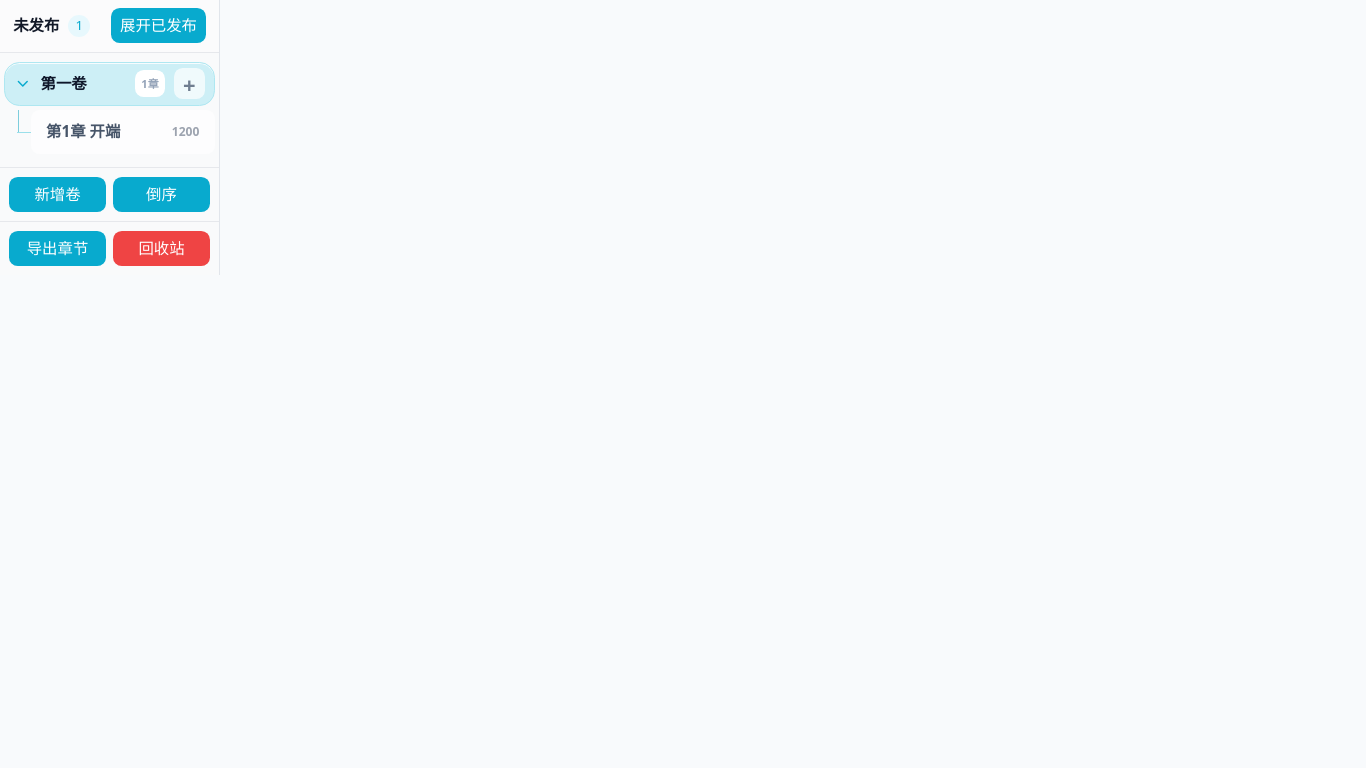
Test case: ChapterSidebar › shows an in-app prompt instead of a native alert when deleting a non-empty volume
Right-click the text "第一卷" at (64, 83), box left=41, top=73, right=87, bottom=94
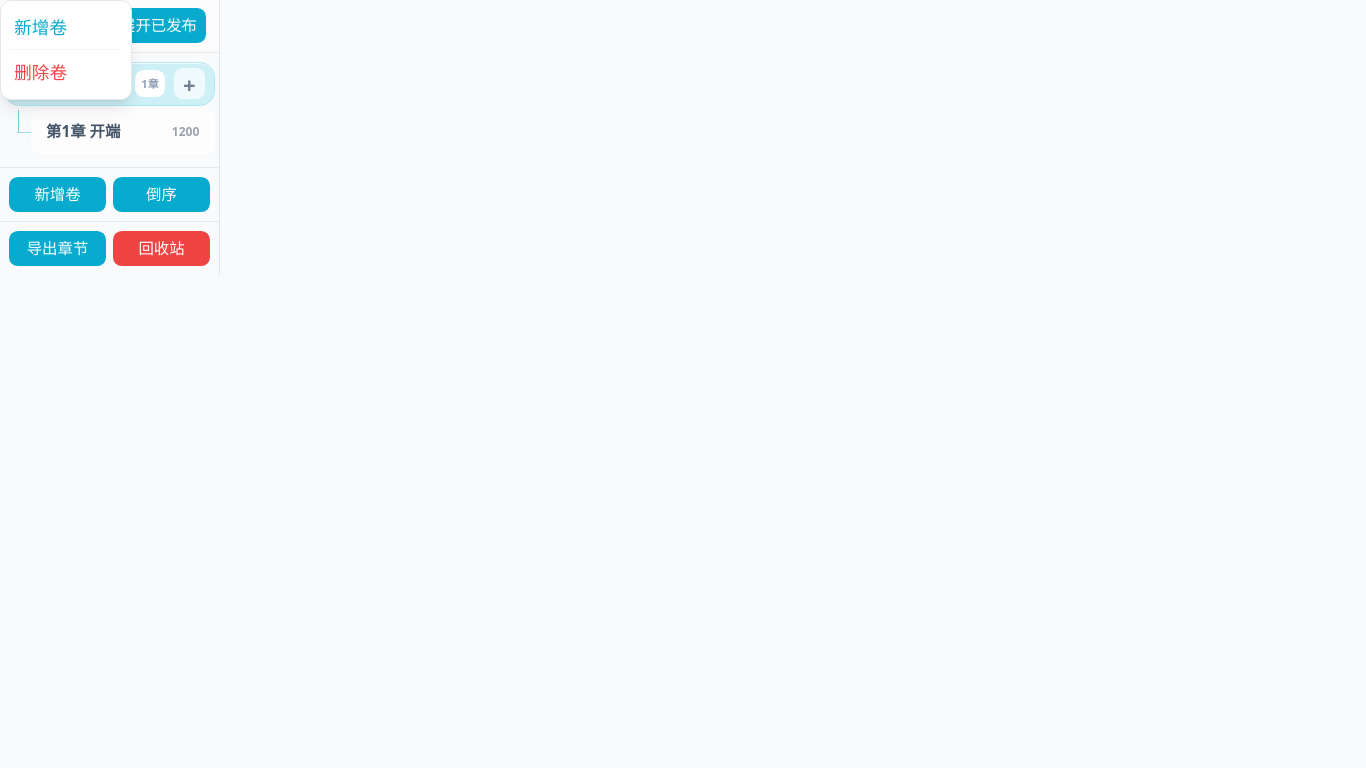
Click the button "删除卷" at (66, 72), box left=1, top=50, right=131, bottom=94
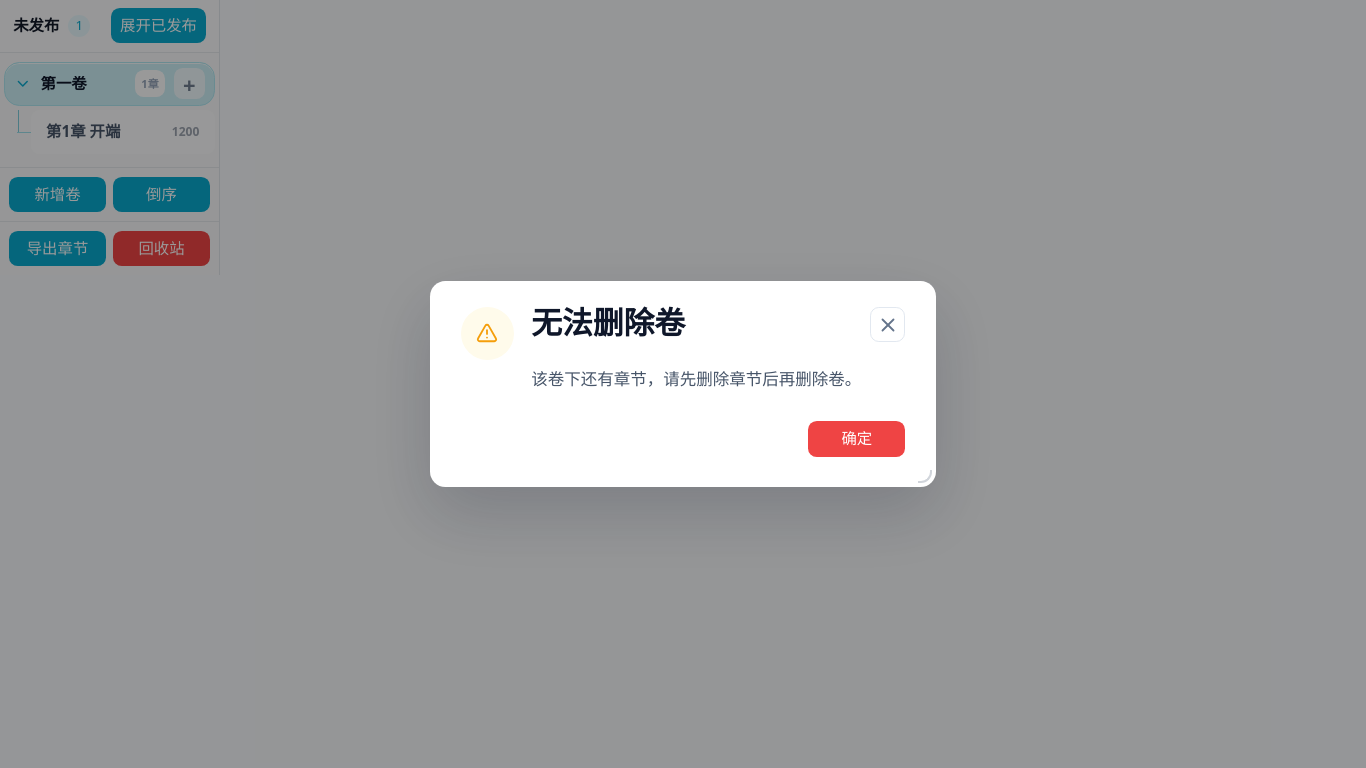
Now the heading "无法删除卷" is shown, box left=531, top=301, right=685, bottom=343
Now the text "该卷下还有章节，请先删除章节后再删除卷。" is shown, box left=531, top=364, right=861, bottom=395
Now the button "确定" is shown, box left=808, top=421, right=905, bottom=457
